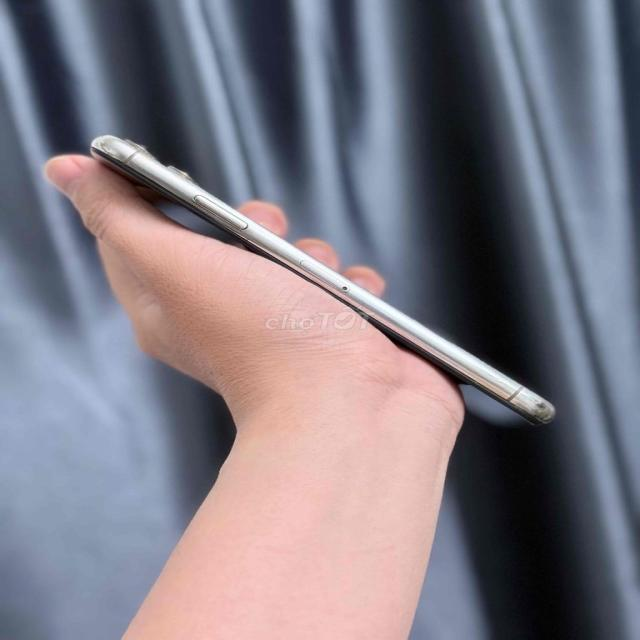gen_11: (79, 133, 566, 459)
